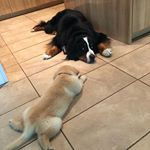puppy: (1, 64, 90, 149), (28, 5, 116, 65)
